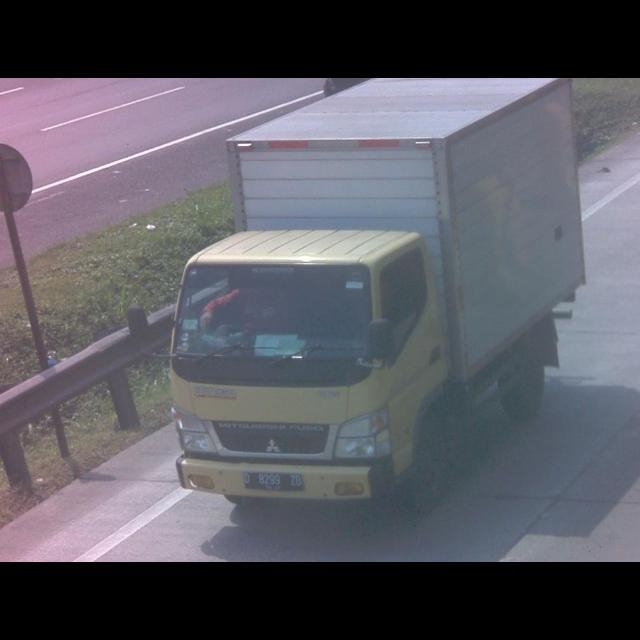plate: (243, 472, 305, 492)
